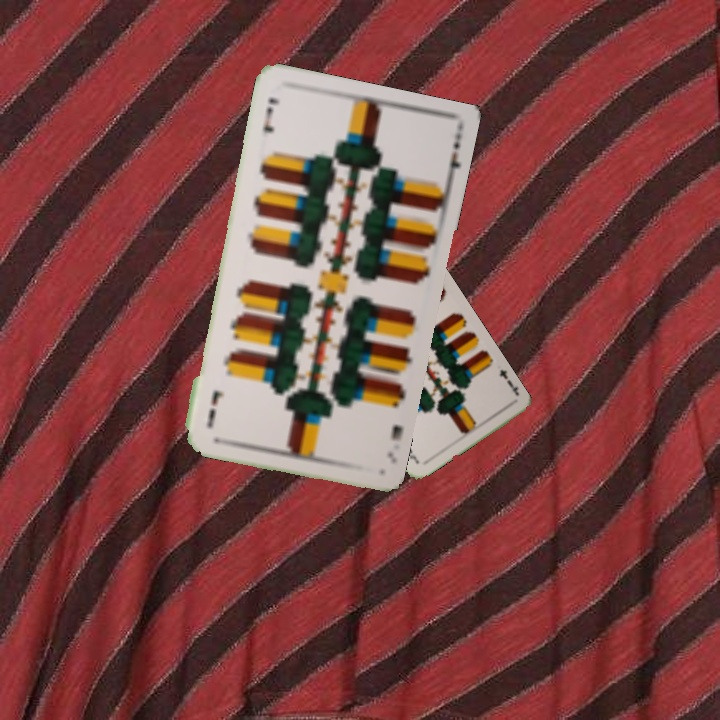E7: (383, 420, 405, 466), (259, 94, 283, 136), (495, 365, 521, 398)
